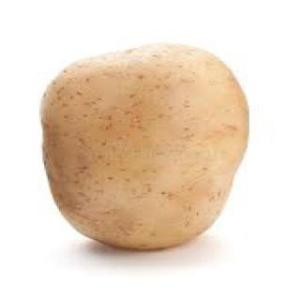potato: (42, 41, 252, 255)
